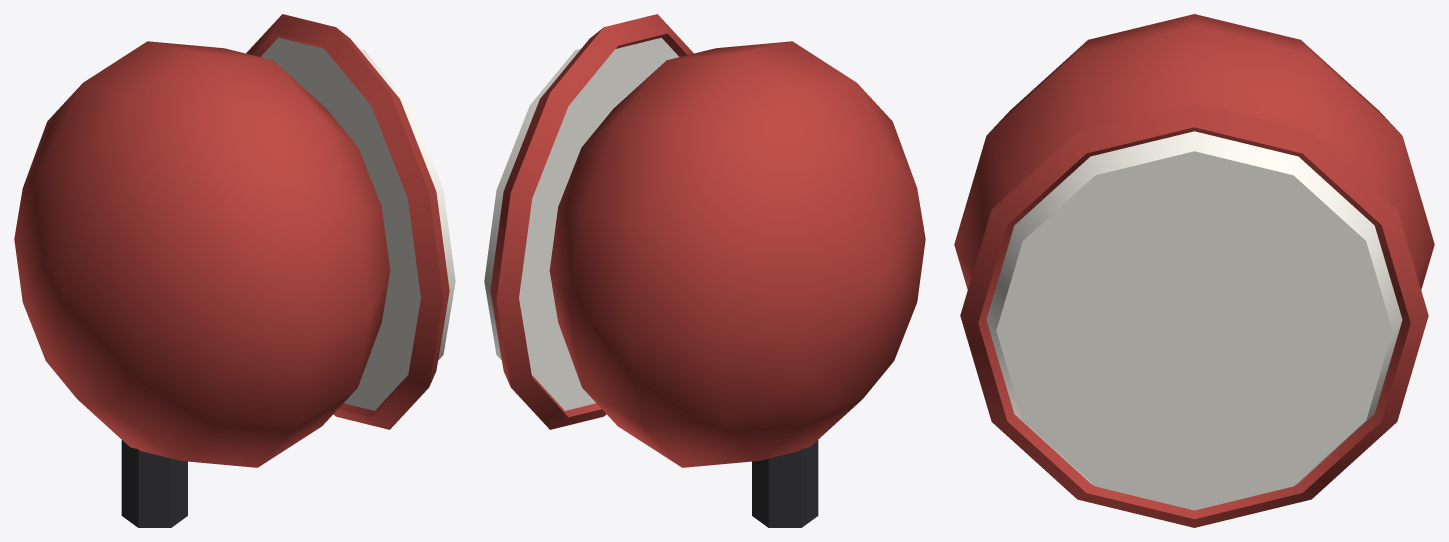
Rendered from round_lod1.glb.
The picture shows the model from 3 angles, left to right: view 1: azimuth 30°, elevation 25°; view 2: azimuth 150°, elevation 25°; view 3: azimuth 270°, elevation 25°; orthographic projection. The views are drawn at different scales.
Parts seen in each view (by area): view 1: round_lod1; view 2: round_lod1; view 3: round_lod1.
Boxes of the visible parts, x1,y1,x2,y2 form: round_lod1: [14, 14, 455, 527]; round_lod1: [484, 14, 925, 527]; round_lod1: [954, 14, 1434, 527].
Size of the model in its own units: 0.0657 by 0.09 by 0.08.
